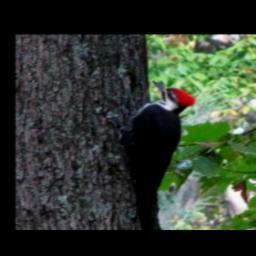Woodpecker: (107, 79, 199, 229)
